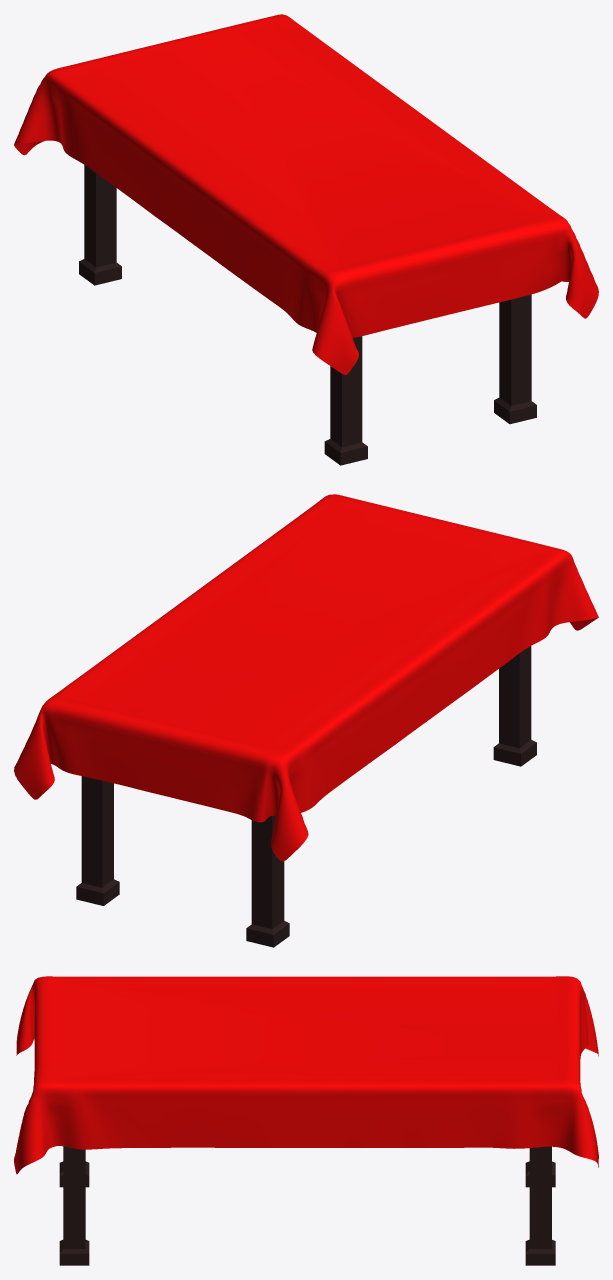
Rendered from PTPublic.fbx.
3 views of the same model, one above another, from view 1: azimuth 30°, elevation 25°; view 2: azimuth 150°, elevation 25°; view 3: azimuth 270°, elevation 25° (orthographic). The views are drawn at different scales.
Parts seen in each view (by area): view 1: Plane, Cube.001; view 2: Plane, Cube.001; view 3: Plane, Cube.001.
Boxes of the visible parts, x1=… form: Plane: x1=14, y1=14, x2=598, y2=374; Cube.001: x1=79, y1=165, x2=536, y2=465; Plane: x1=14, y1=494, x2=598, y2=861; Cube.001: x1=76, y1=646, x2=536, y2=947; Plane: x1=14, y1=976, x2=598, y2=1174; Cube.001: x1=59, y1=1146, x2=555, y2=1265.
Size of the model in its own units: 249 by 165 by 458.
